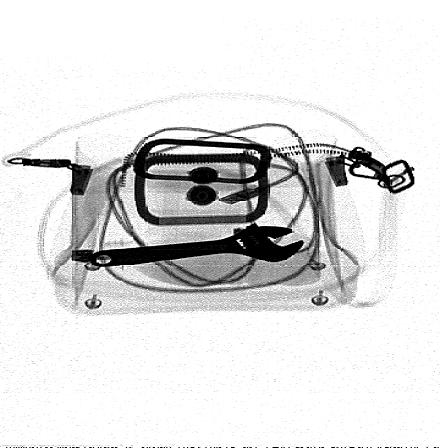Wrench: (88, 224, 303, 269)
